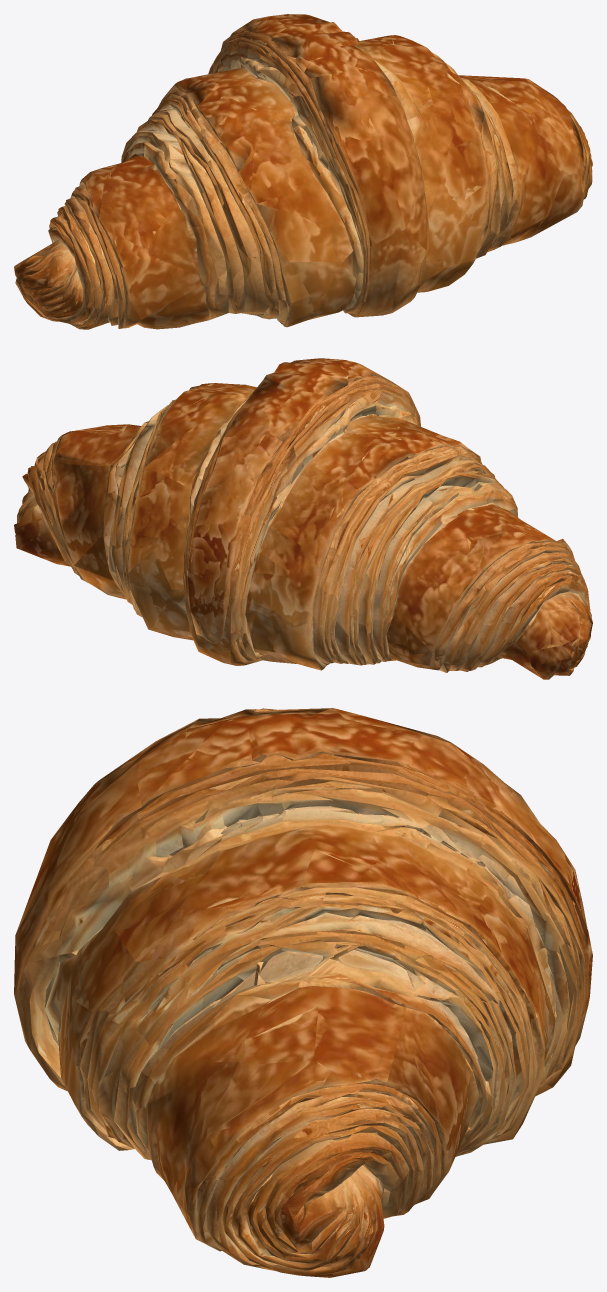
Rendered from croissant-lo.glb.
3 renders of one model, top to bottom at view 1: azimuth 30°, elevation 25°; view 2: azimuth 150°, elevation 25°; view 3: azimuth 270°, elevation 25°, orthographic. The views are drawn at different scales.
Parts seen in each view (by area): view 1: Mesh_0; view 2: Mesh_0; view 3: Mesh_0.
Part boxes in pixels (x1,y1,x2,y2): Mesh_0: (14, 14, 592, 329); Mesh_0: (14, 358, 592, 679); Mesh_0: (14, 708, 592, 1277).
Size of the model in its own units: 1.9 by 0.7486 by 1.08.
Materials: 1 (1 with a texture image).
